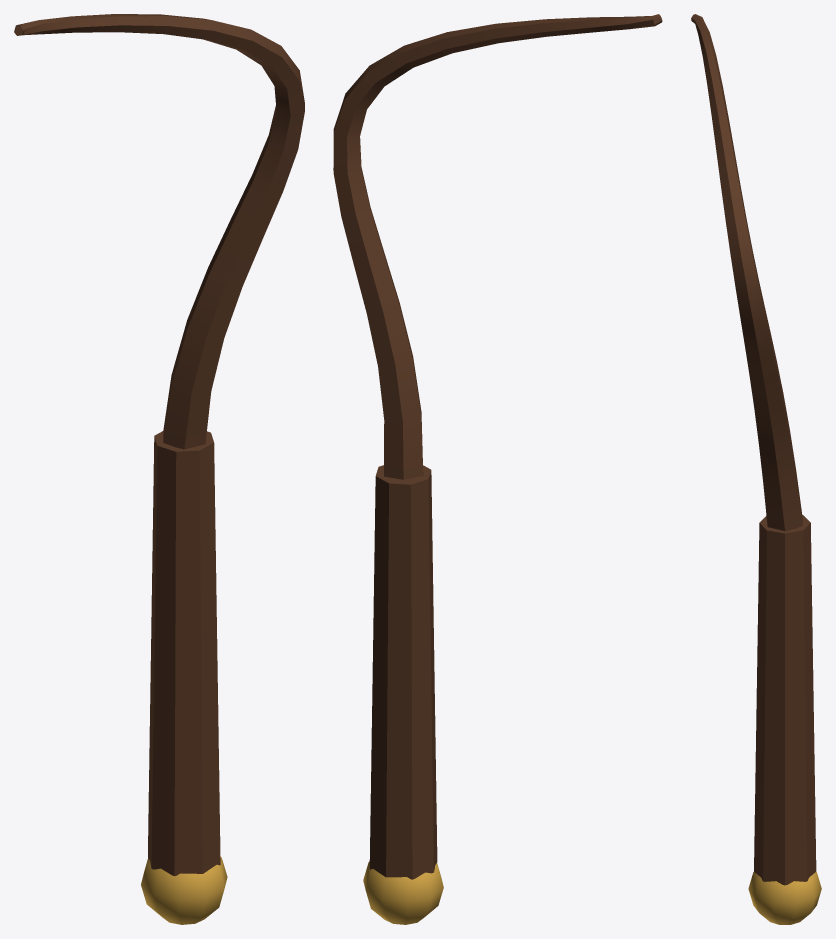
File: Whip.fbx
The picture shows the model from 3 angles, left to right: view 1: azimuth 30°, elevation 25°; view 2: azimuth 150°, elevation 25°; view 3: azimuth 270°, elevation 25°; orthographic projection. The views are drawn at different scales.
Visible parts, largest first — view 1: Whip; view 2: Whip; view 3: Whip.
Boxes of the visible parts, left/top/right/bottom form: Whip: left=14, top=14, right=304, bottom=924; Whip: left=333, top=14, right=662, bottom=924; Whip: left=691, top=14, right=821, bottom=924.
Size of the model in its own units: 0.1679 by 0.4893 by 0.0712.
